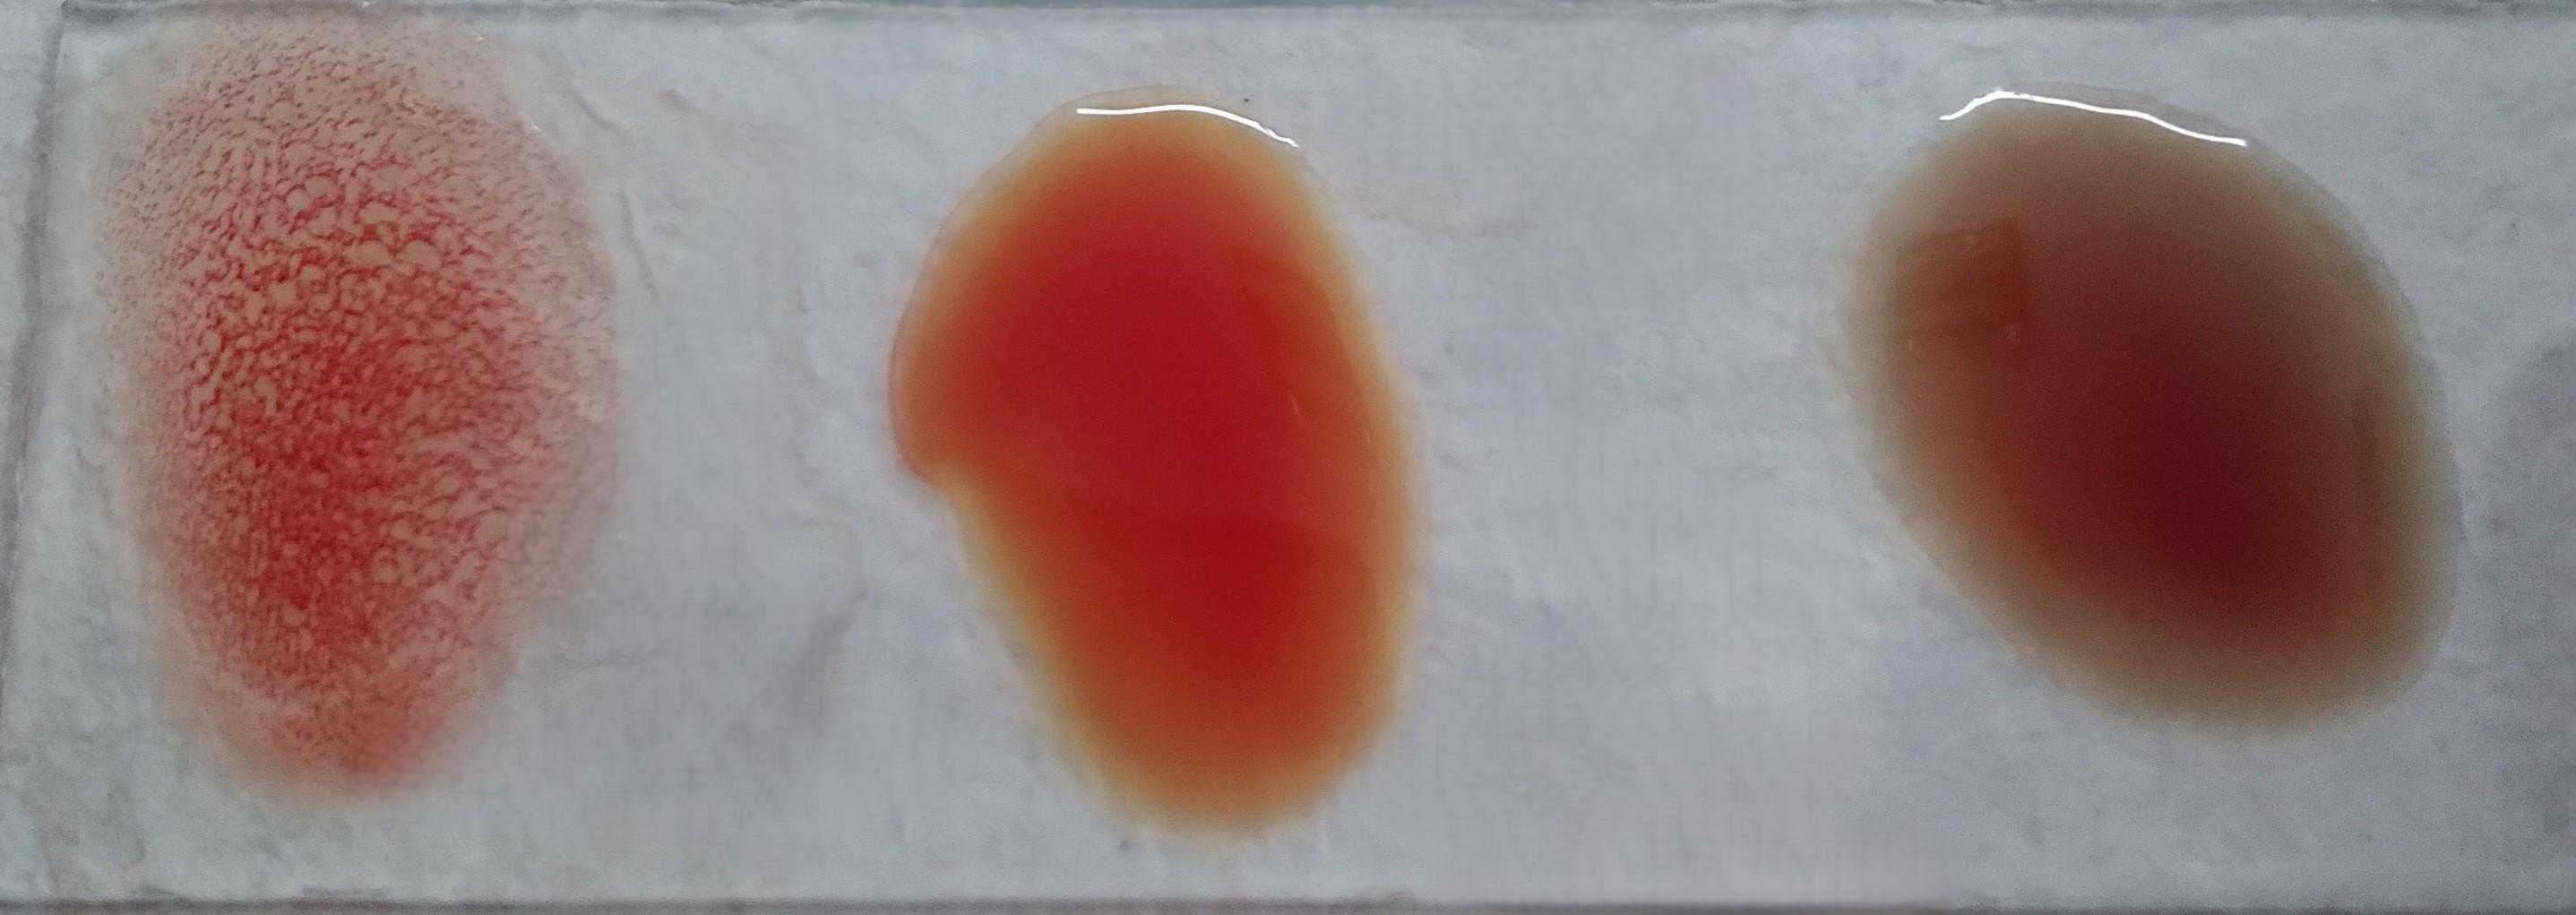D: (113, 21, 585, 808)
